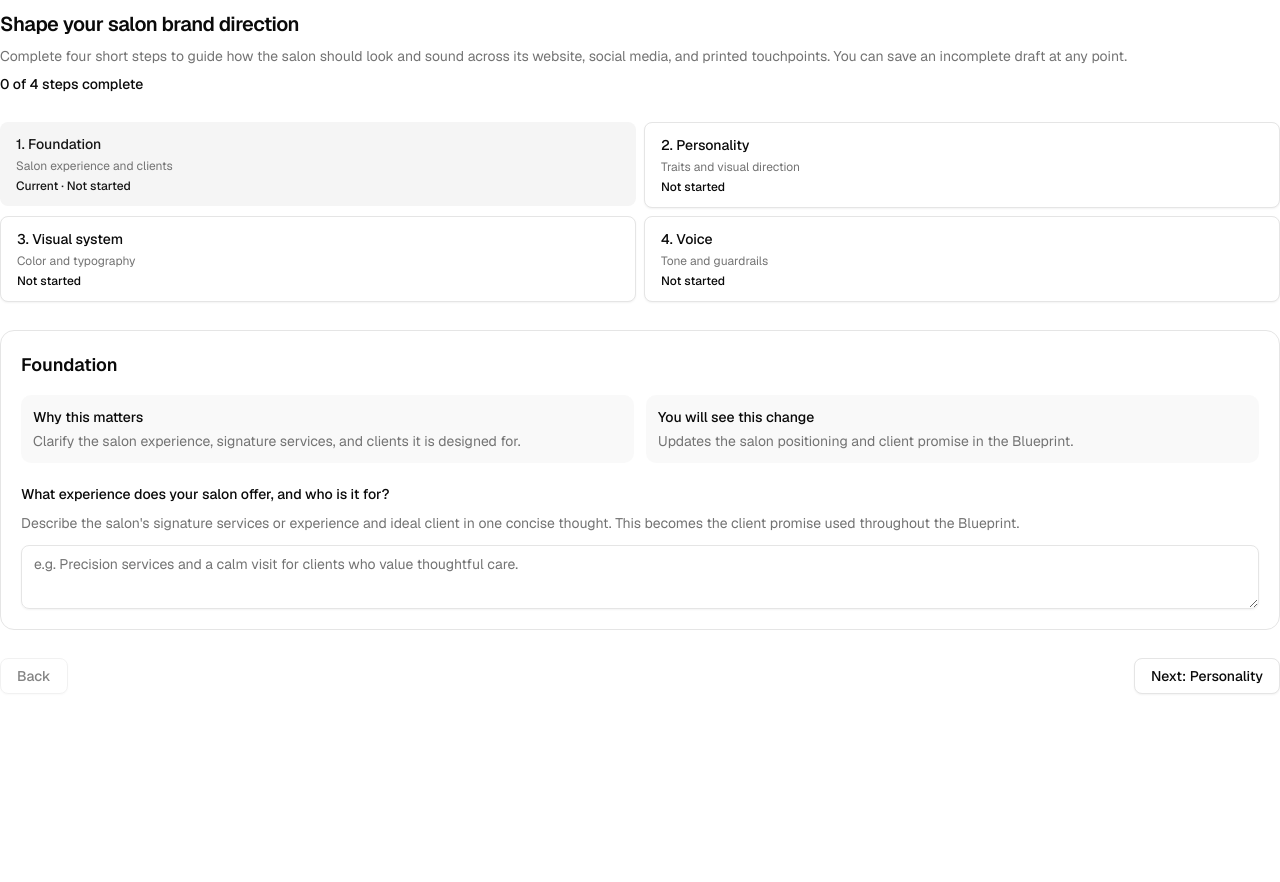
Test: GuidedEditor › uses Review to announce missing decisions and focus the first incomplete field
Click the button "4. Voice Tone and guardrails Not started" at (694,239), box [644, 216, 1279, 302]
(page scrolled)
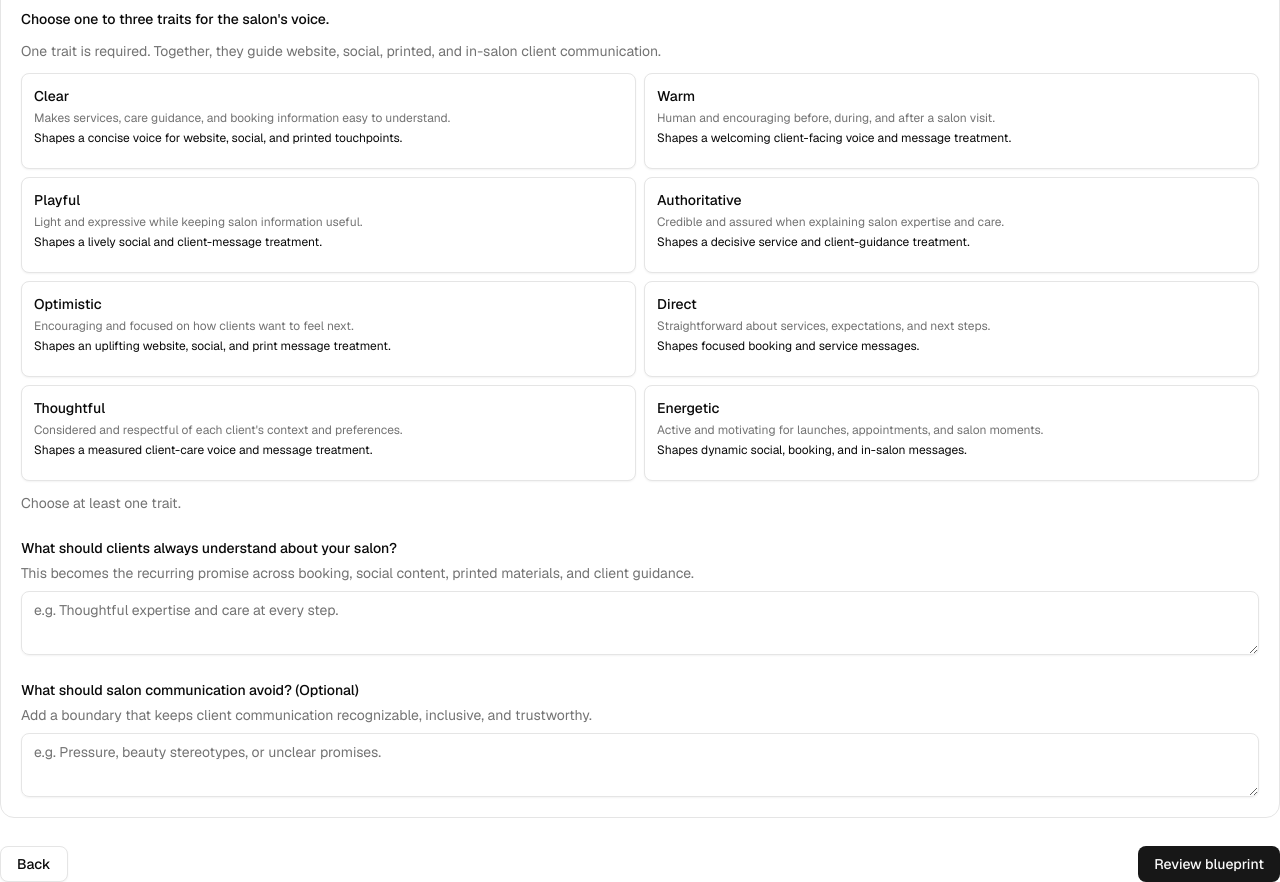
Click the button "Review blueprint" at (1209,864), box [1138, 846, 1279, 881]
(page scrolled)
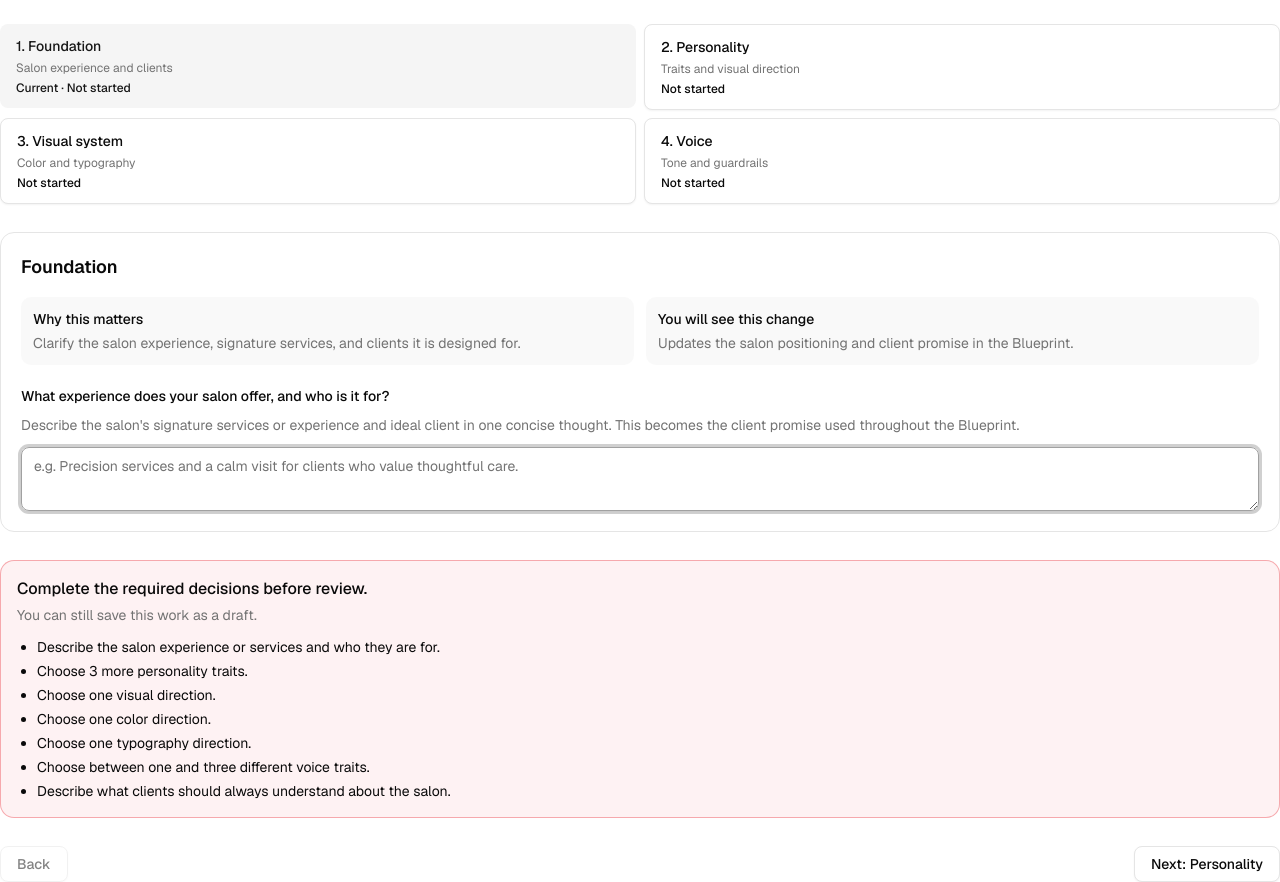
Now the message is shown, box [0, 560, 1279, 818]
Now the text "Complete the required decisions before review." is shown, box [17, 578, 367, 599]
